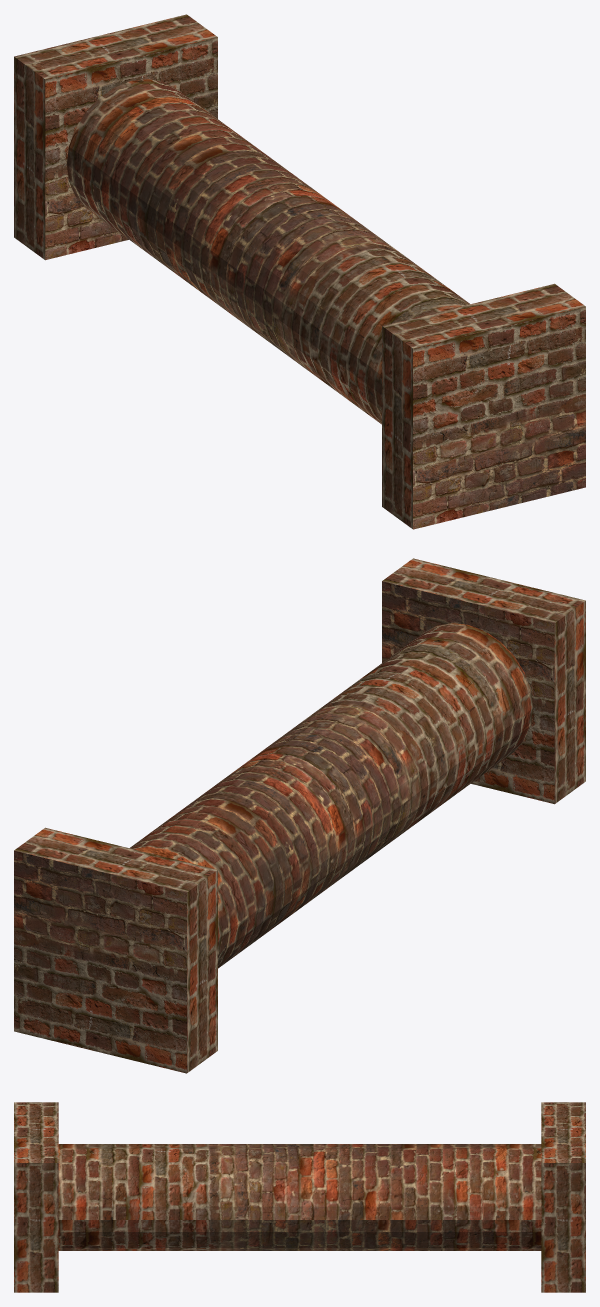
File: stone-column.glb
3 views of the same model, one above another, from view 1: azimuth 30°, elevation 25°; view 2: azimuth 150°, elevation 25°; view 3: azimuth 270°, elevation 25° (orthographic). The views are drawn at different scales.
Visible parts, largest first — view 1: StoneColumn; view 2: StoneColumn; view 3: StoneColumn.
Boxes of the visible parts, box(x1,y1,x2,y2) form: StoneColumn: box(14, 14, 585, 529); StoneColumn: box(14, 558, 585, 1073); StoneColumn: box(14, 1102, 585, 1292).
Bounding box in the file's own units: 0.8 × 0.8 × 3.2.
Materials: 1 (1 with a texture image).
